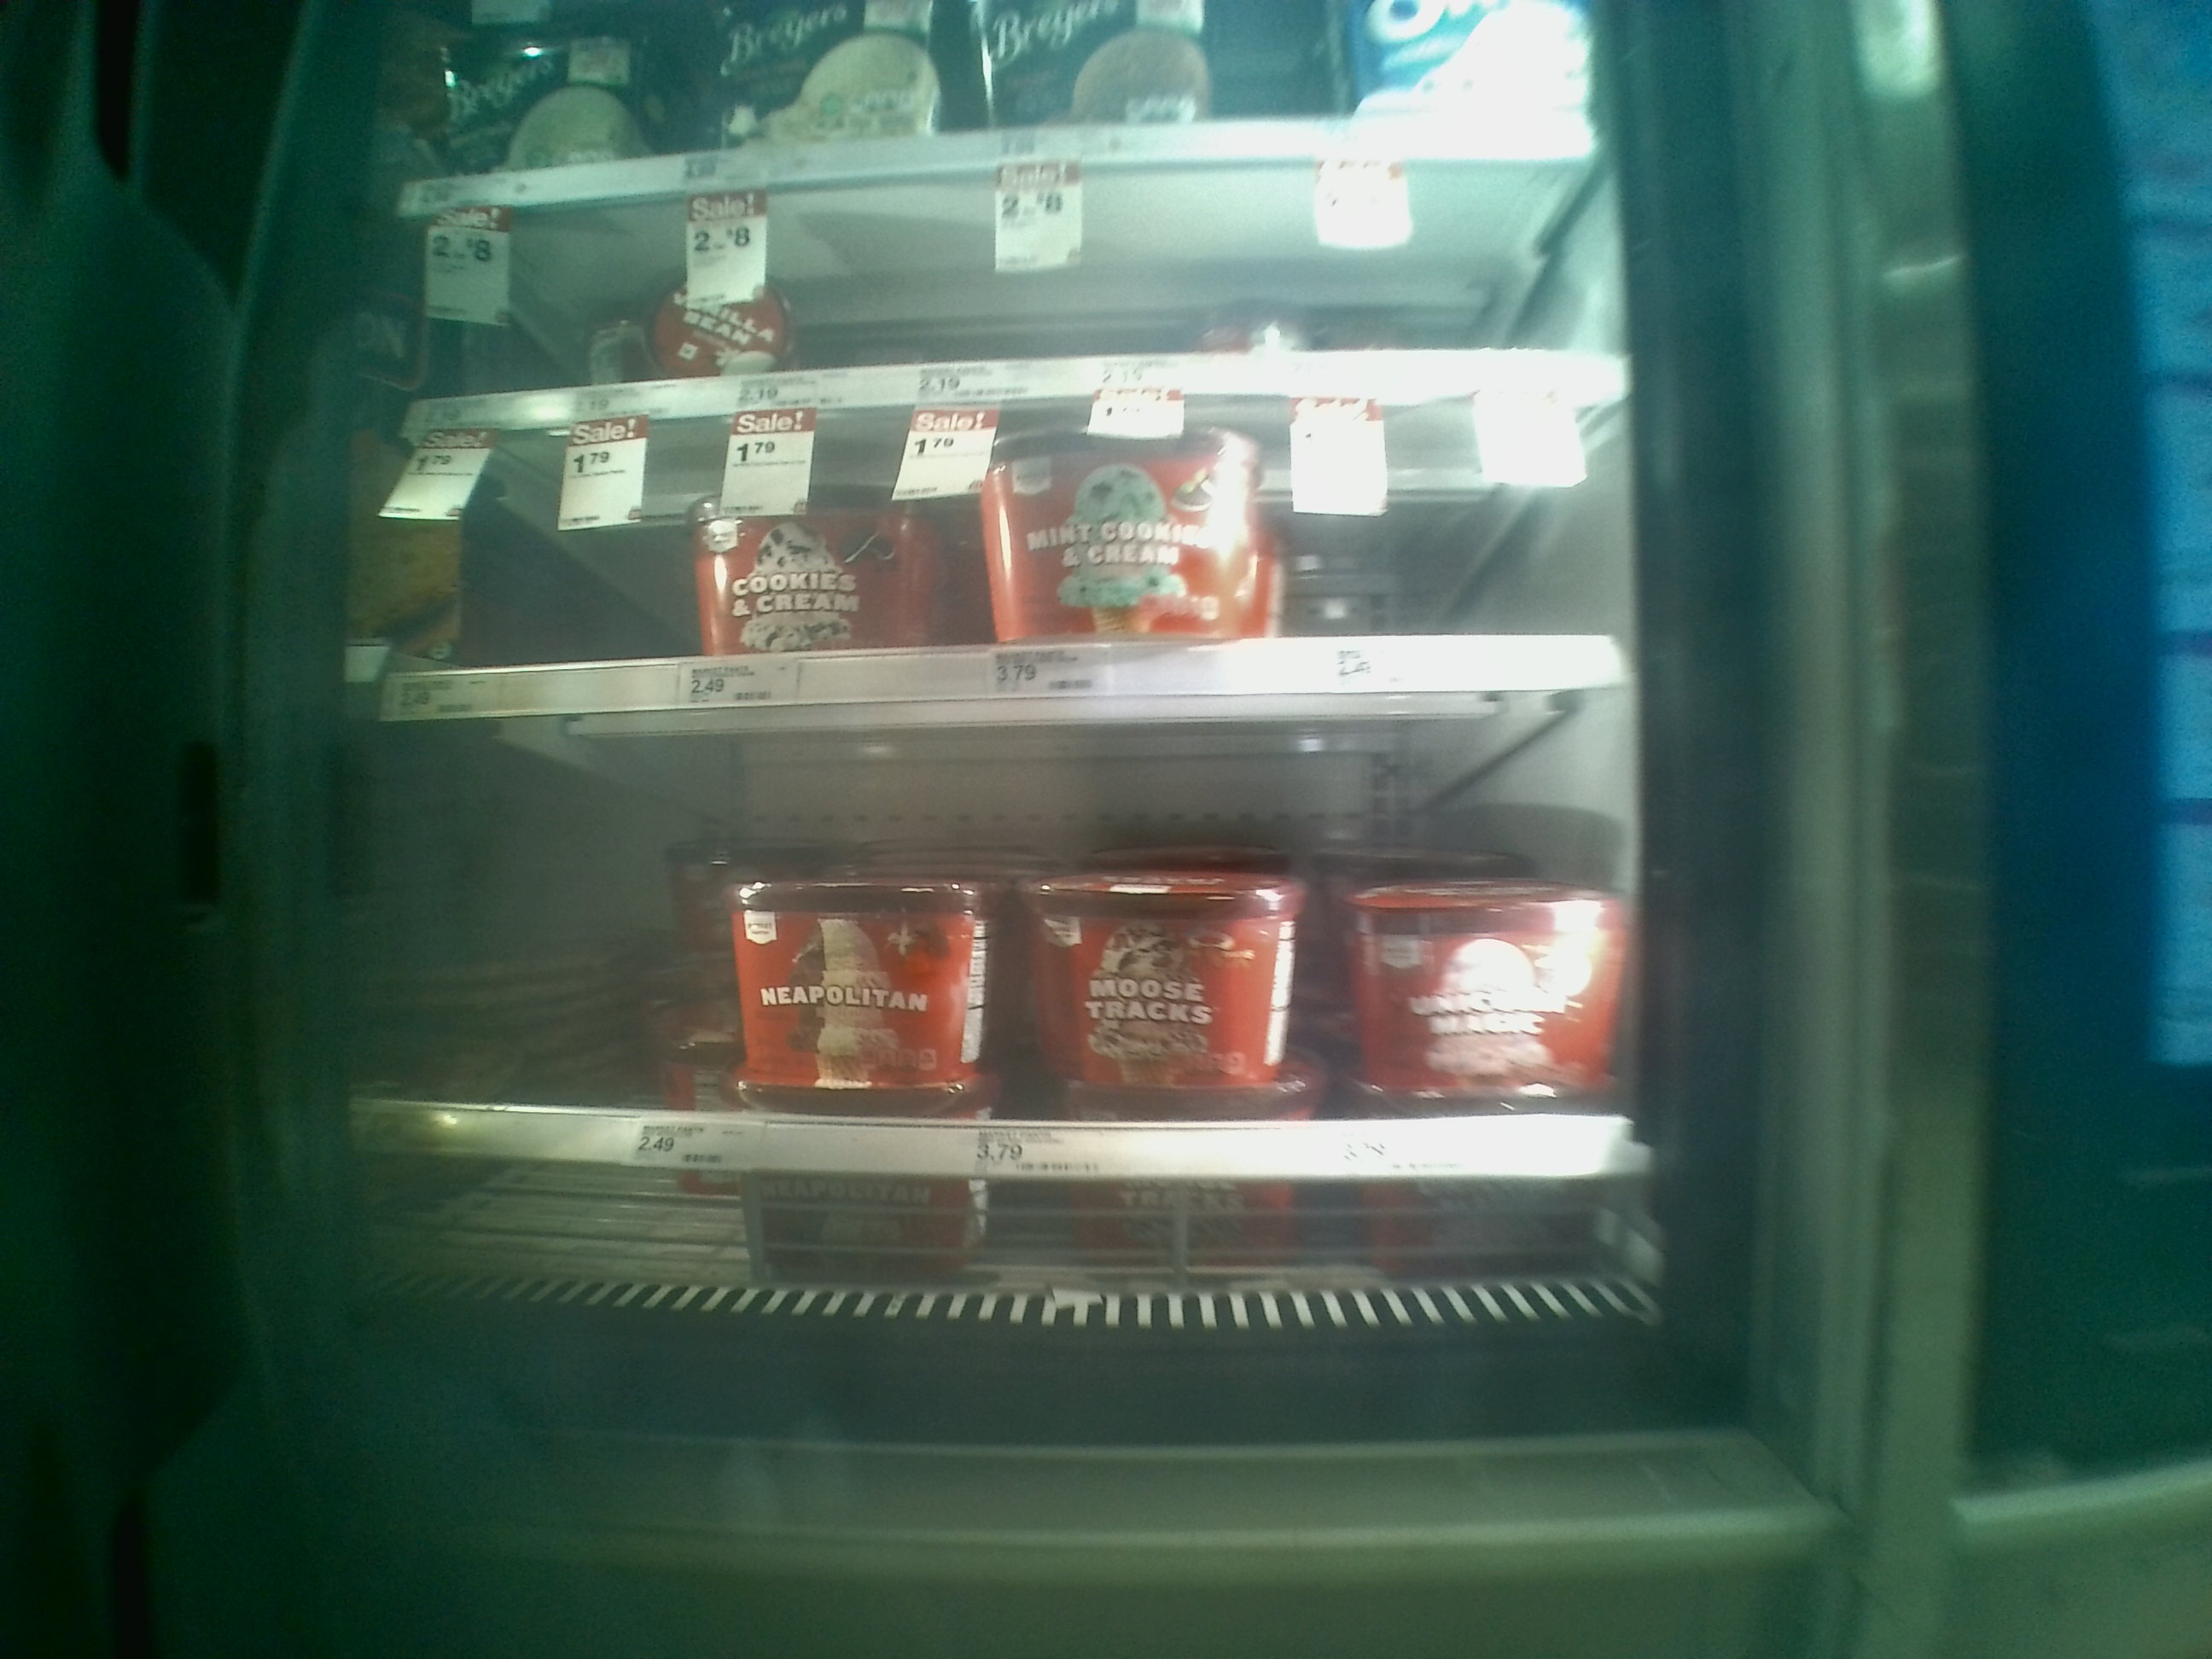ice-cream-shelf: (361, 694, 1644, 1166)
